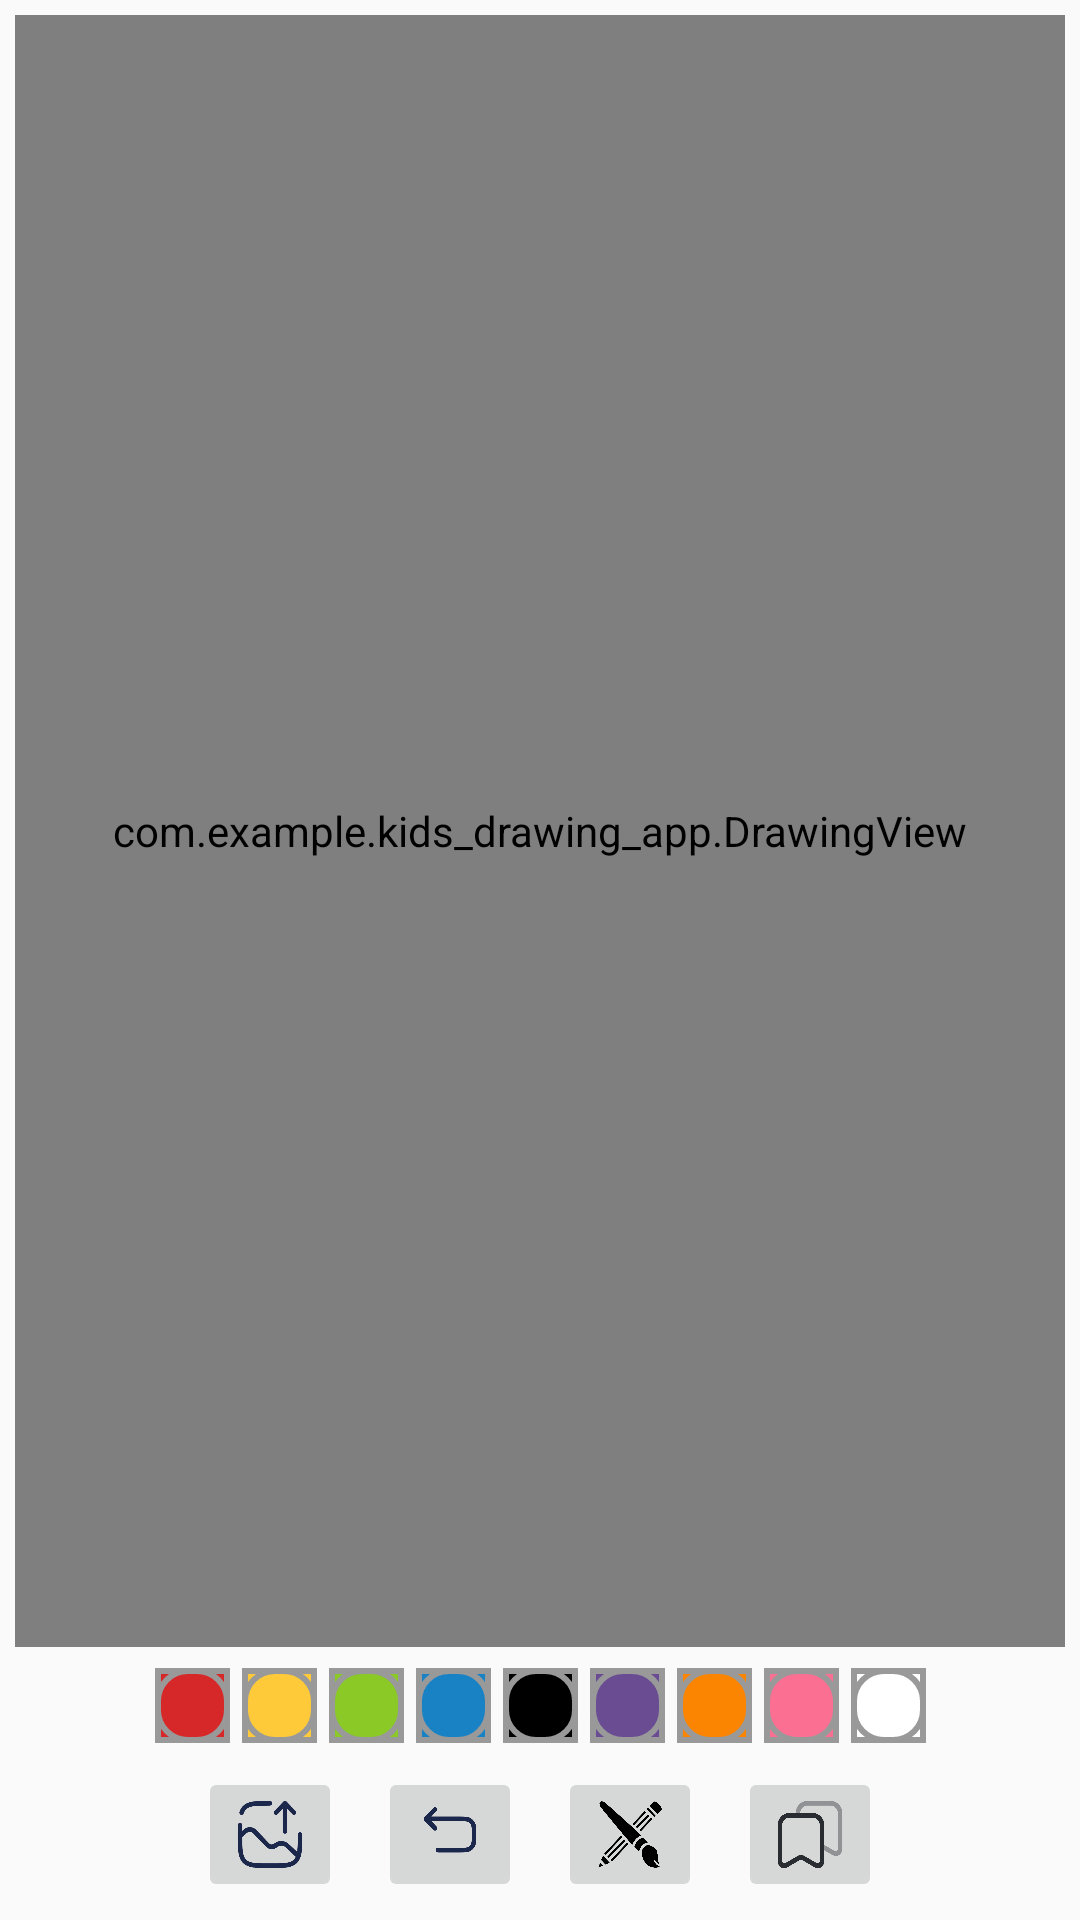

Icon bounding boxes for this 1080*1920 phone screenshot, format box(x1, y1, x2, y2):
brush image: box(570, 1785, 690, 1884)
gallery image: box(210, 1785, 330, 1884)
save image: box(750, 1785, 870, 1884)
undo image: box(390, 1785, 510, 1884)
